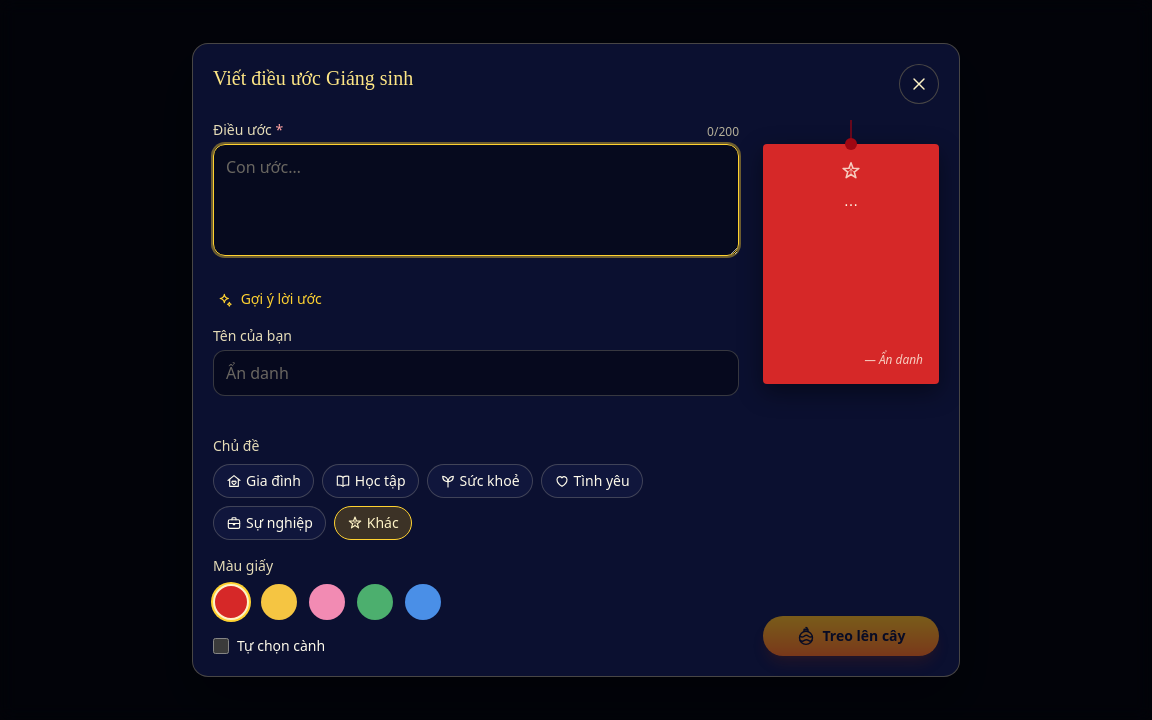
WishComposer (002) › AC-002-07: từ cấm → không gửi, hiện lỗi
Type "đồ óc chó" into the text box labelled "Điều ước *" at (476, 200), box x1=213 y1=144 x2=739 y2=256
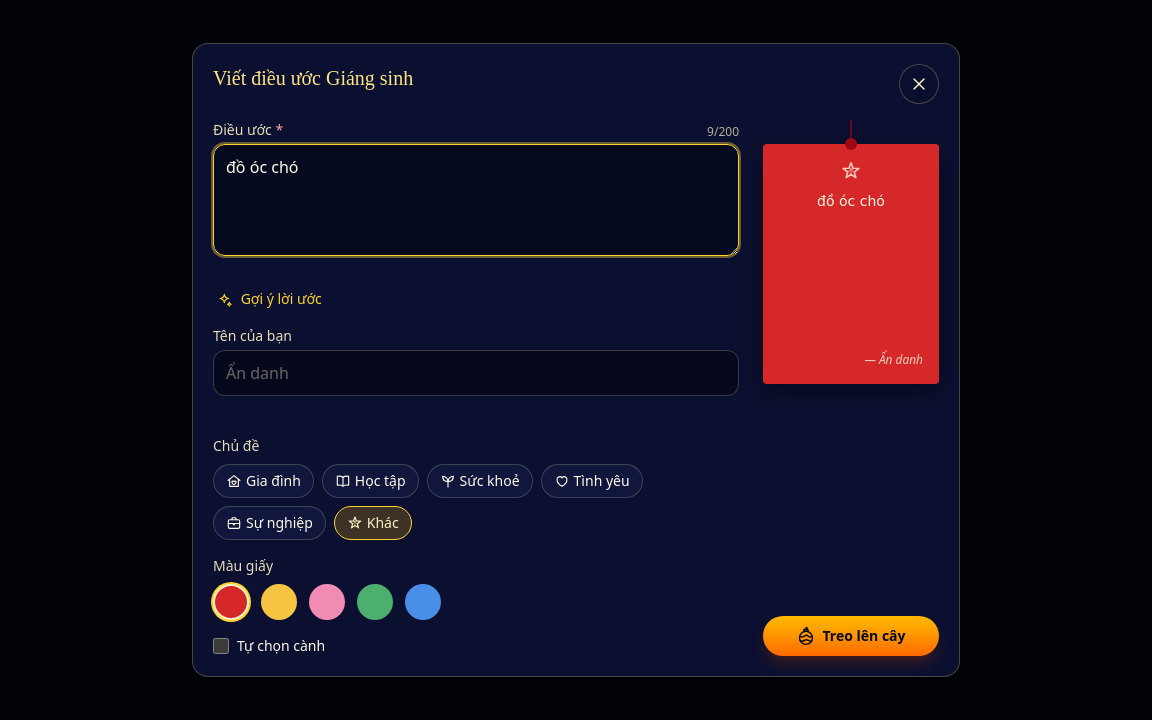
Click the button "Treo lên cây" at (851, 636), box x1=763 y1=616 x2=939 y2=656
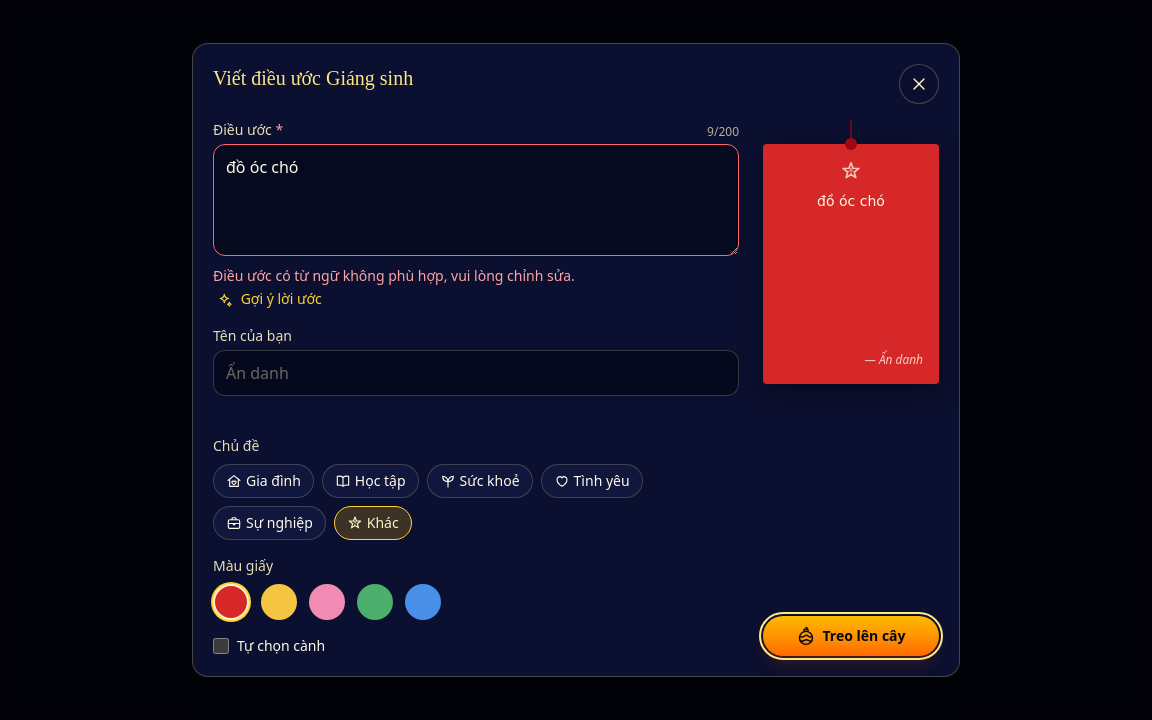
expect the text "Điều ước có từ ngữ không phù hợp, vui lòng chỉnh sửa." is shown: met, box x1=213 y1=266 x2=575 y2=285
